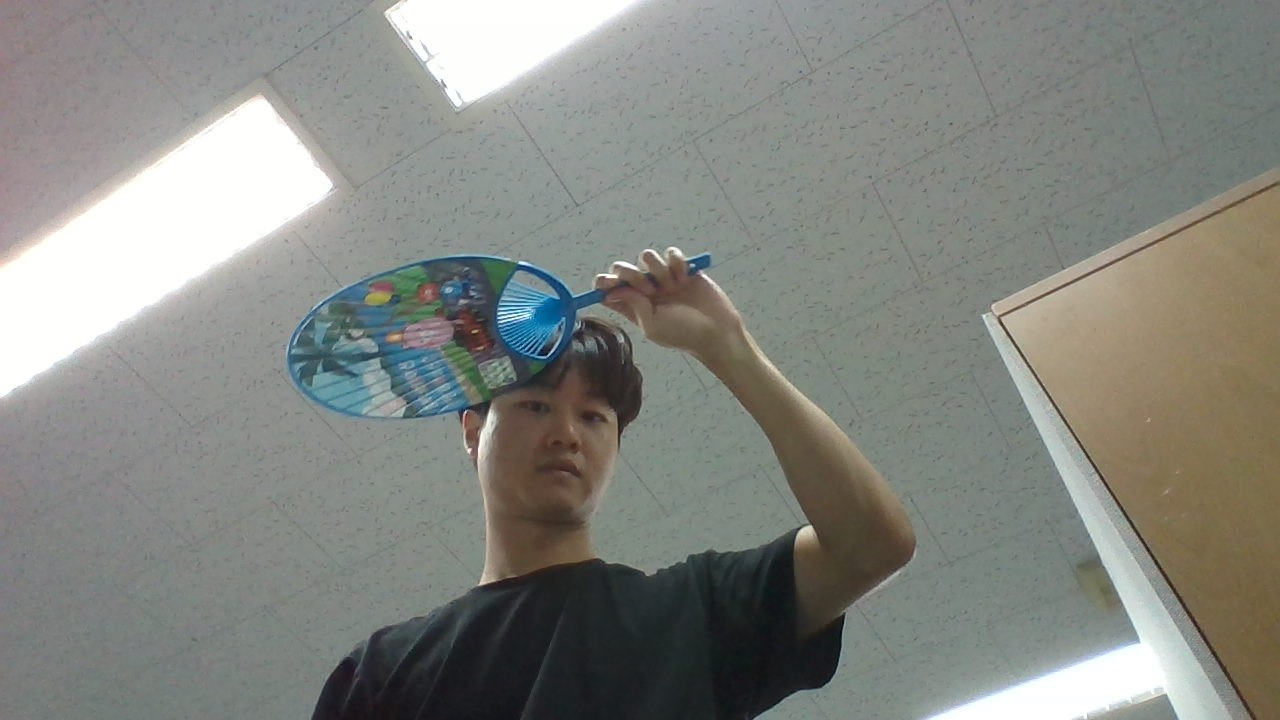Non-Helmet: (441, 300, 663, 534)
